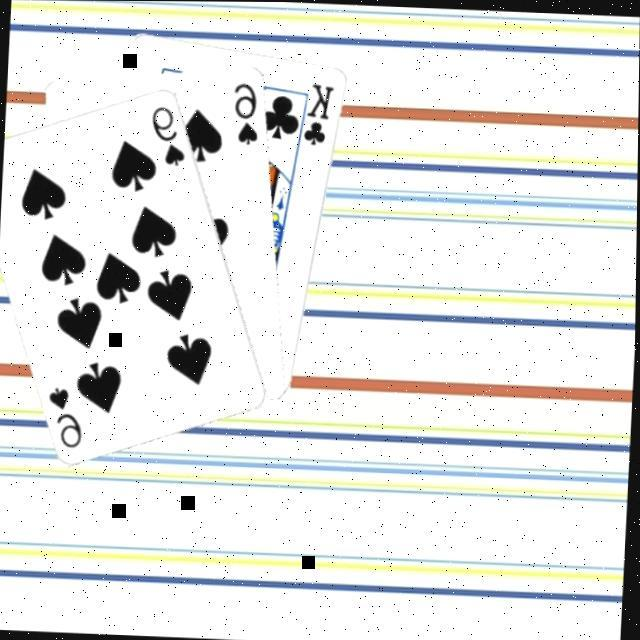6S: (228, 76, 263, 145)
9S: (43, 380, 88, 448), (146, 99, 191, 166)
KC: (292, 77, 337, 150)
